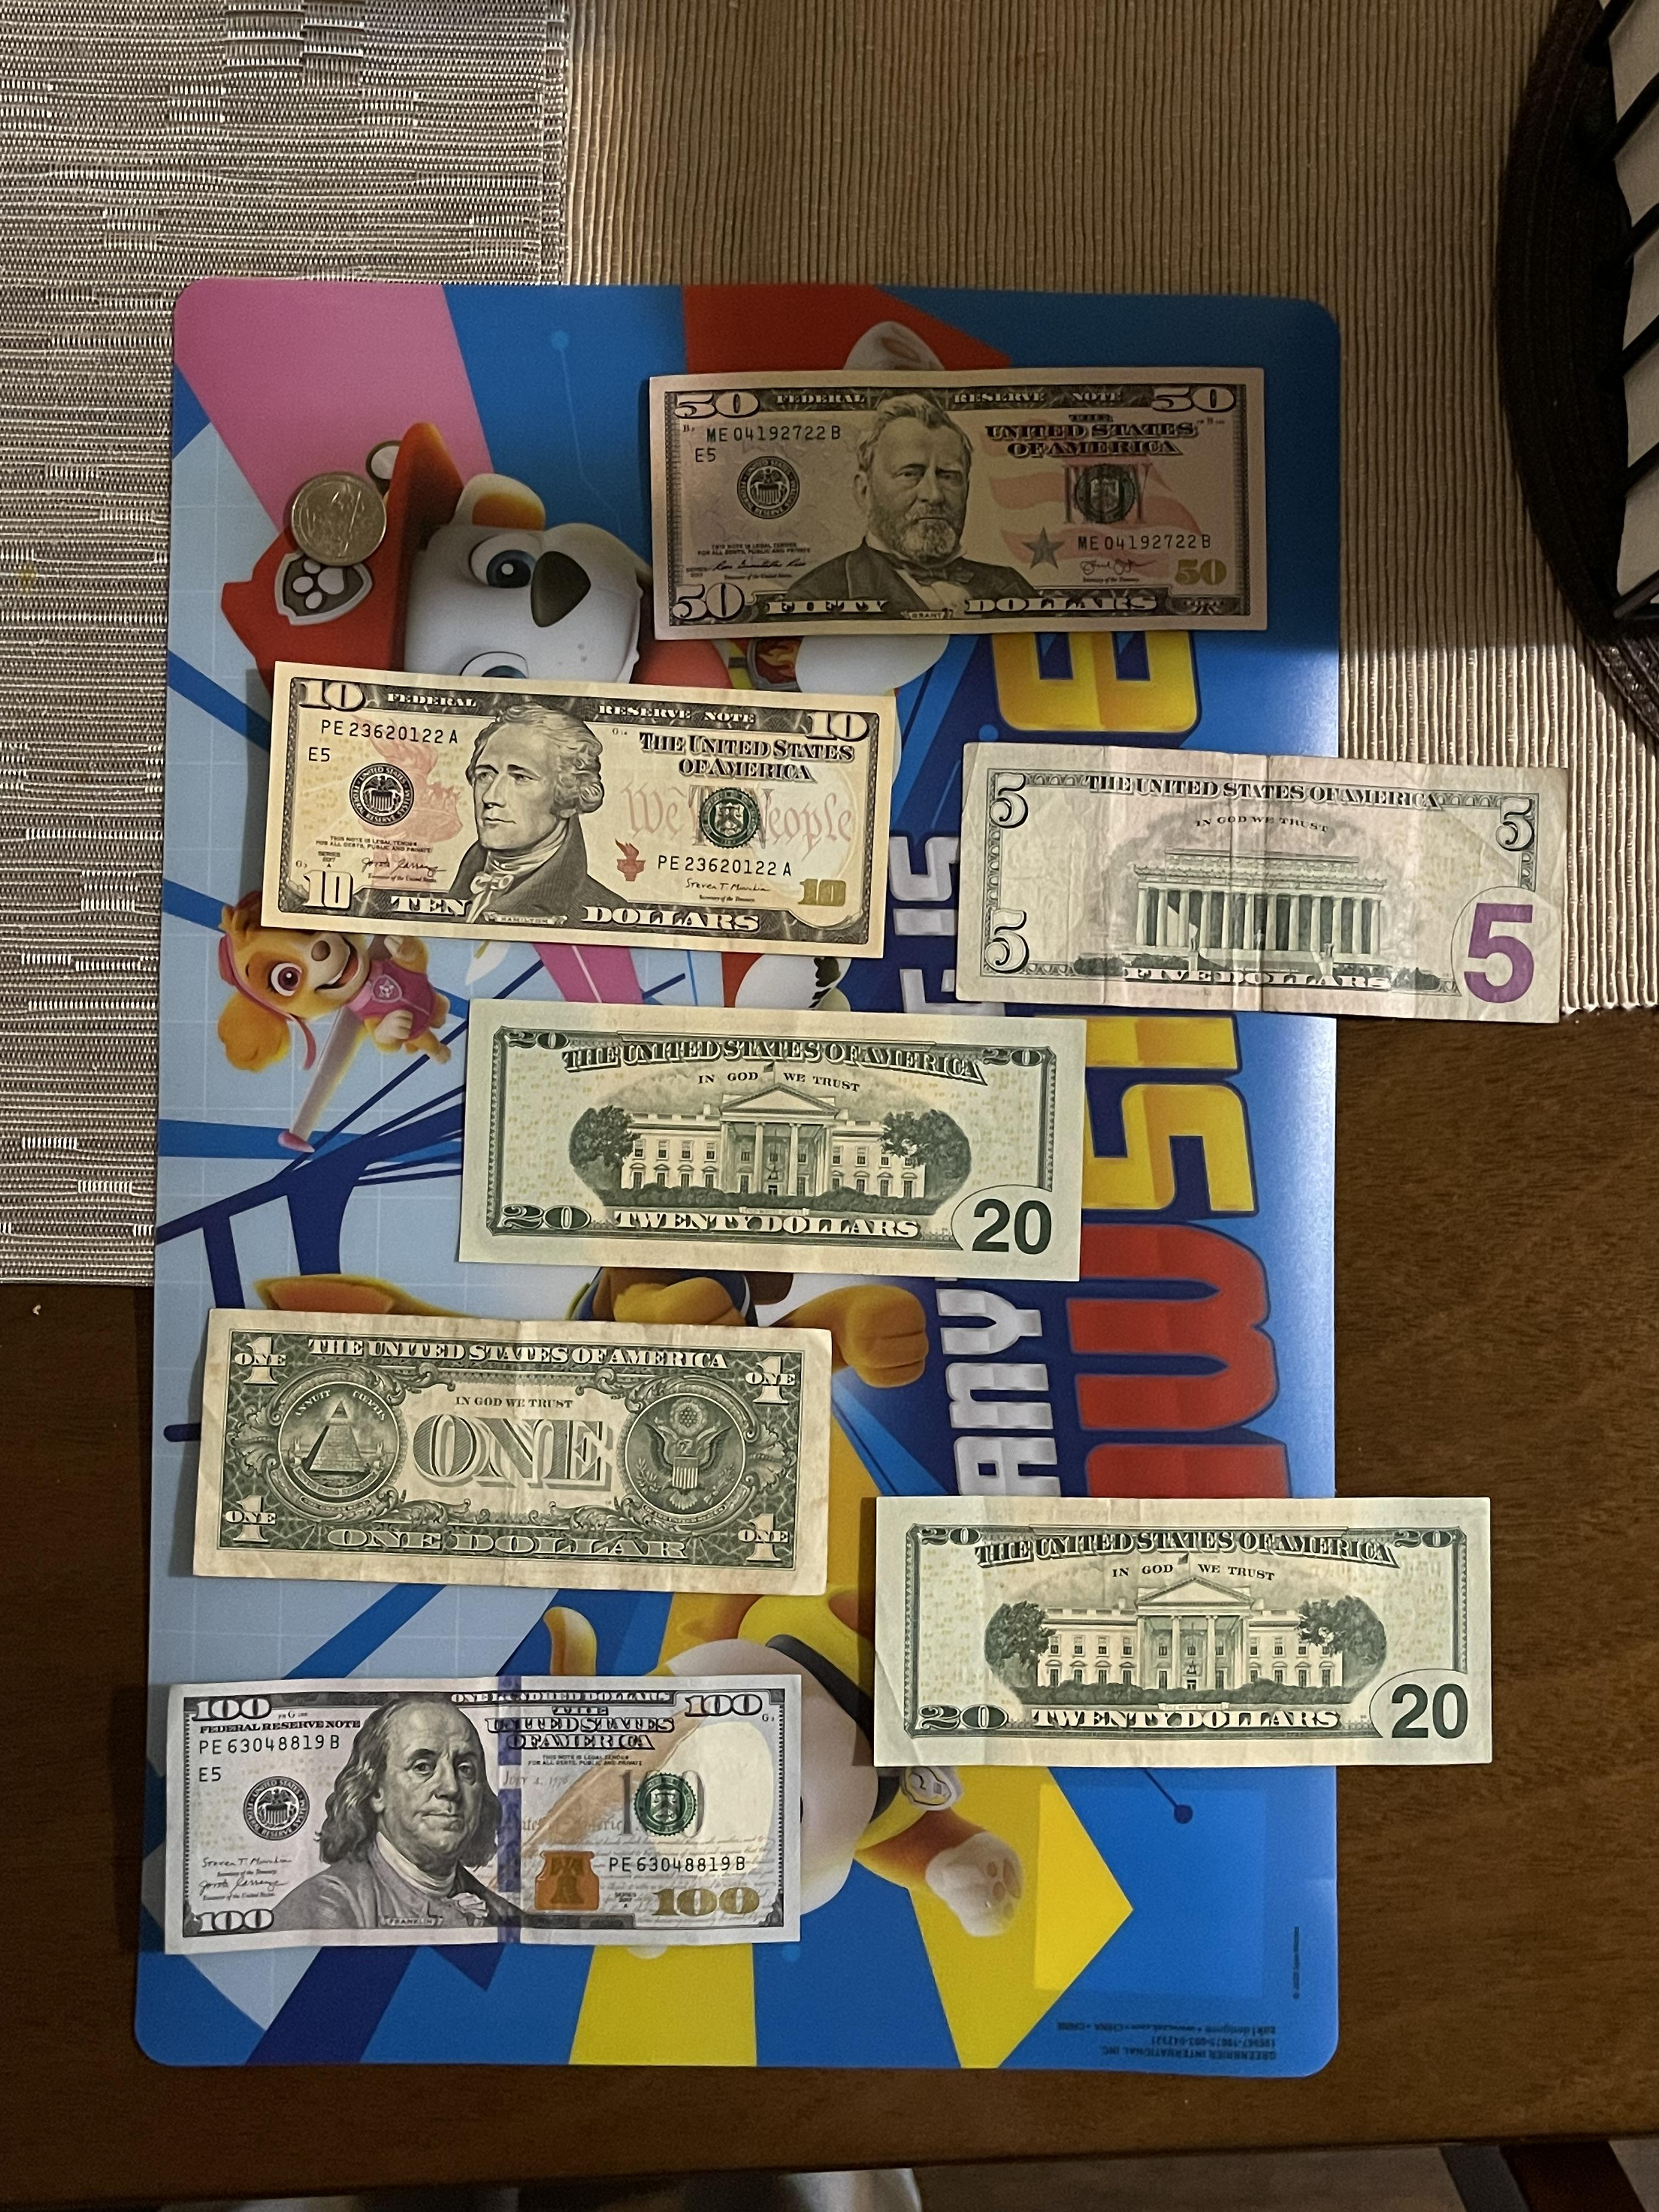FiftyBill: (647, 366, 1270, 643)
FiveBill: (955, 740, 1570, 1024)
HundredBill: (164, 1672, 803, 1958)
OneBill: (193, 1308, 835, 1599)
Quarter: (289, 474, 387, 566)
TenBill: (258, 658, 897, 961)
TwentyBill: (457, 998, 1087, 1284), (871, 1493, 1492, 1770)
